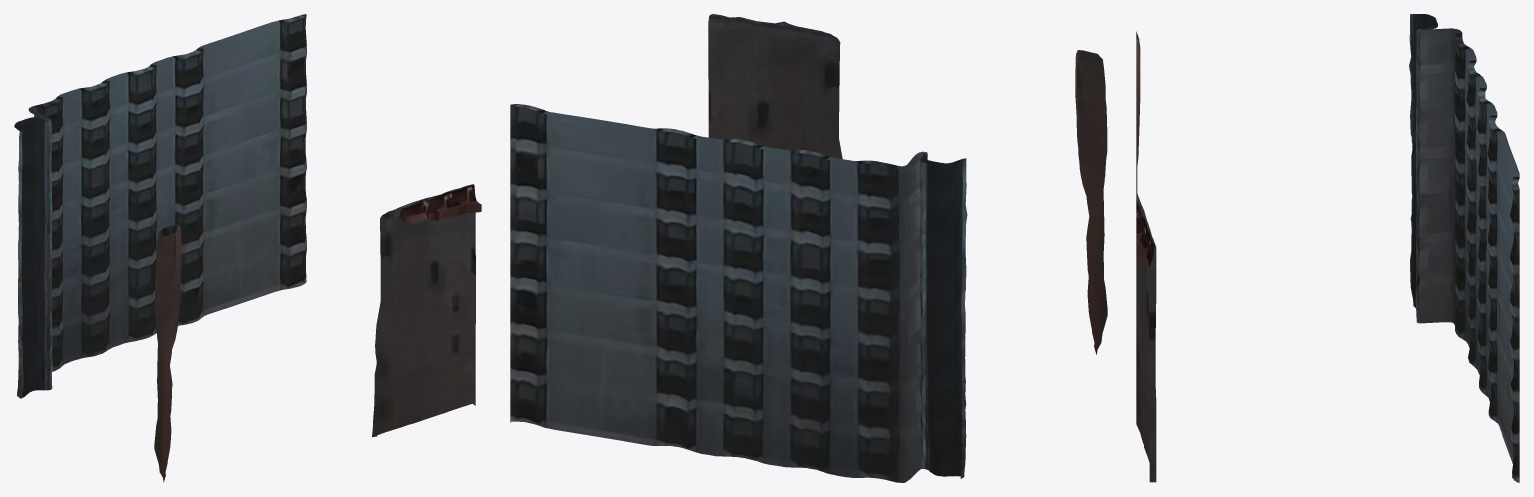
Rendered from z20-167745-405248-h1-yup-uvflip-v3-world.glb.
3 renders of one model, left to right at view 1: azimuth 30°, elevation 25°; view 2: azimuth 150°, elevation 25°; view 3: azimuth 270°, elevation 25°, orthographic. The views are drawn at different scales.
Size of the model in its own units: 30.2 by 23.12 by 27.56.
1 material, 1 textured.
